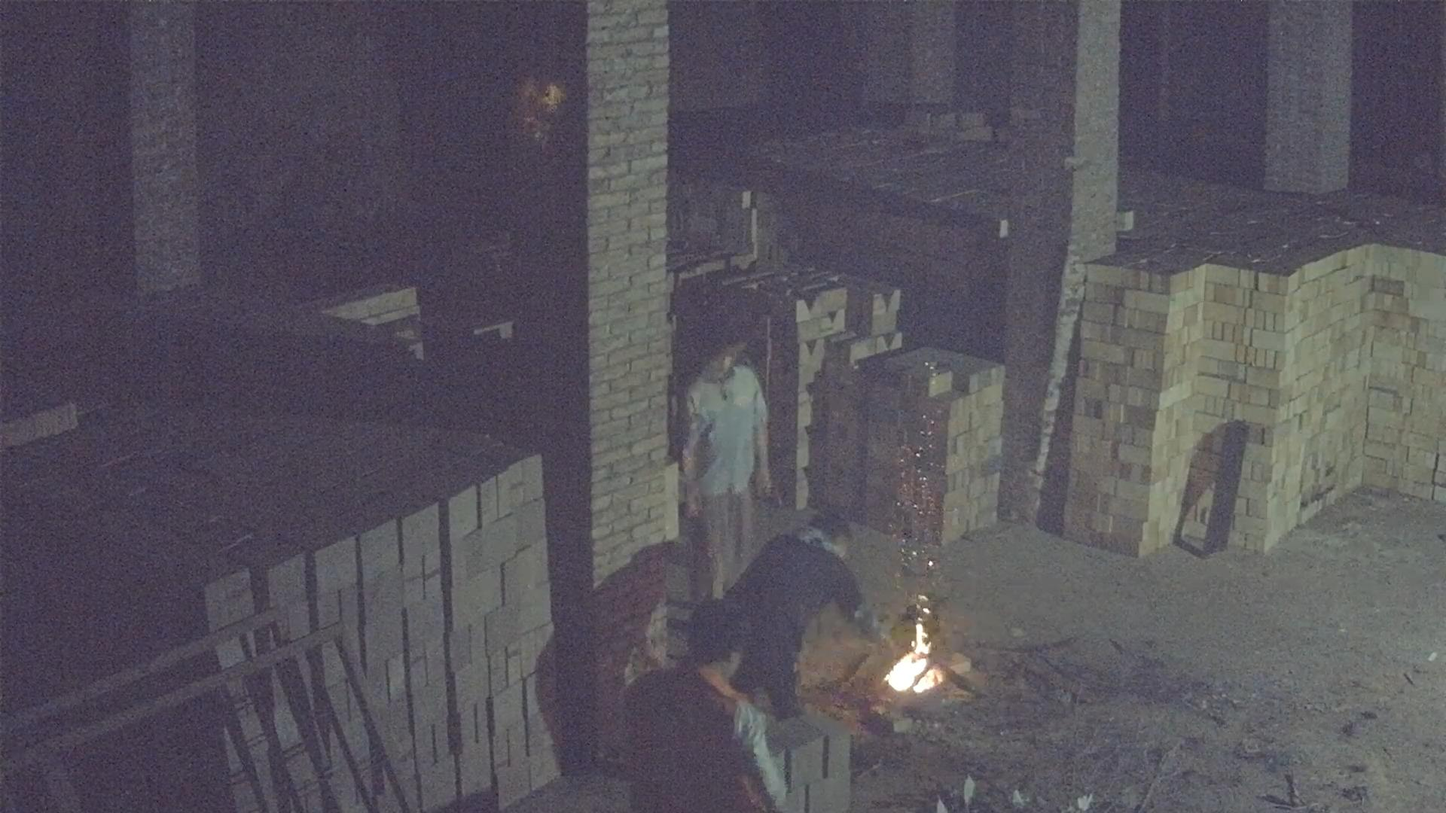fire: (884, 617, 942, 693)
